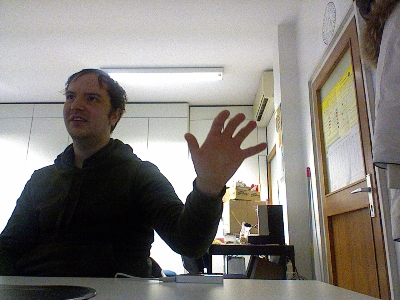布: (184, 110, 268, 182)
